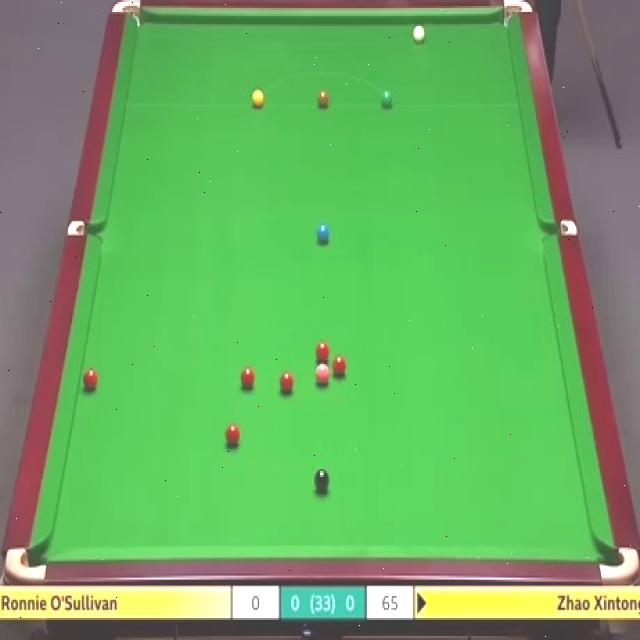black-ball: (313, 470, 331, 492)
blue-ball: (315, 222, 329, 244)
brown-ball: (316, 91, 328, 106)
green-ball: (381, 91, 392, 107)
pink-ball: (315, 362, 329, 388)
red-ball: (332, 354, 348, 380), (226, 422, 242, 447), (82, 370, 100, 390), (240, 366, 255, 388), (280, 370, 294, 393), (316, 342, 330, 361)
white-ball: (412, 24, 426, 44)
yellow-ball: (249, 89, 265, 109)
